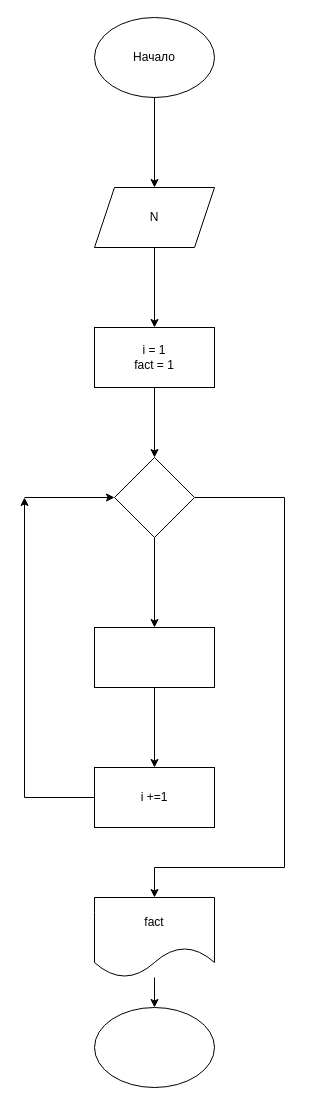
The diagram is 310 pixels wide and 1105 high, and some of its shapes have lost their labels. Each missing label, with the centre of its shape:
fact *= i: the point at 154,657
i<=N: the point at 154,497
Конец: the point at 154,1047
